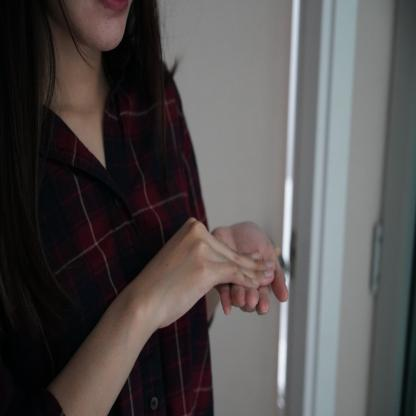Love: (118, 209, 292, 340)
